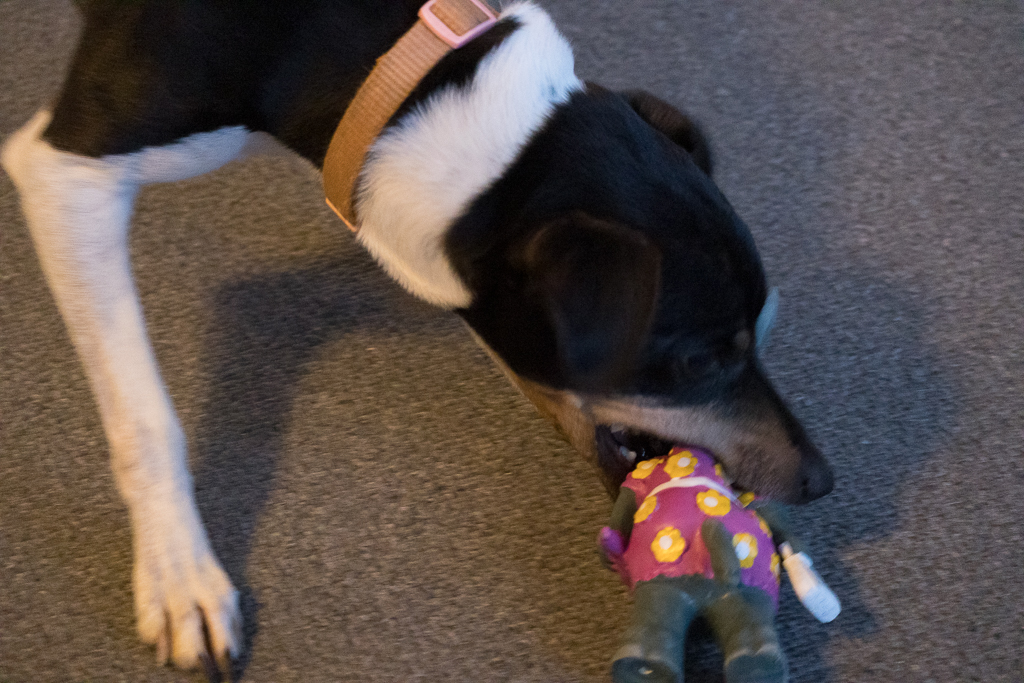Dog: (0, 0, 843, 683)
Humanoid: (581, 426, 855, 683)
